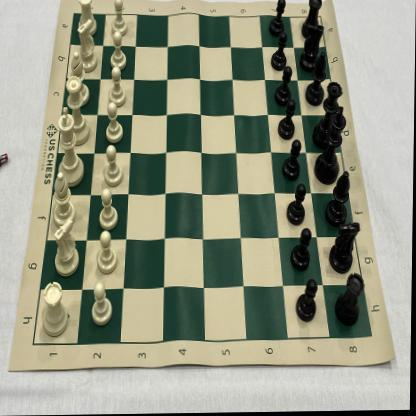black-bishop: (326, 171, 351, 226), (306, 54, 327, 107)
black-king: (314, 106, 345, 185)
black-knight: (330, 224, 361, 274), (300, 25, 325, 72)
black-pawn: (296, 280, 318, 323), (291, 229, 313, 272), (287, 185, 306, 226), (282, 142, 301, 182), (278, 101, 296, 141), (275, 66, 292, 107), (270, 33, 288, 71), (270, 0, 286, 37)
black-queen: (313, 82, 343, 148)
black-rook: (336, 274, 364, 327), (302, 0, 322, 39)
white-bishop: (53, 172, 77, 227), (70, 51, 90, 107)
white-king: (58, 106, 86, 187)
white-knight: (52, 218, 80, 278), (77, 19, 99, 73)
white-pawn: (90, 284, 115, 328), (96, 188, 120, 232), (97, 230, 119, 275), (104, 102, 125, 144), (104, 144, 125, 186), (108, 67, 126, 108), (110, 32, 128, 70), (112, 0, 129, 37)
white-queen: (64, 75, 92, 146)
white-rook: (42, 280, 70, 338), (78, 0, 98, 37)
